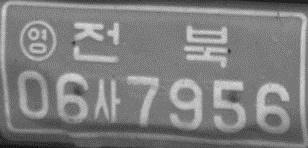0: (16, 68, 50, 121)
5: (212, 79, 247, 133)
6: (255, 82, 291, 135), (55, 71, 89, 124)
7: (126, 75, 159, 127)
9: (168, 78, 203, 131)
사: (92, 78, 120, 122)
영: (18, 19, 57, 61)
전북_D: (71, 21, 228, 67)
